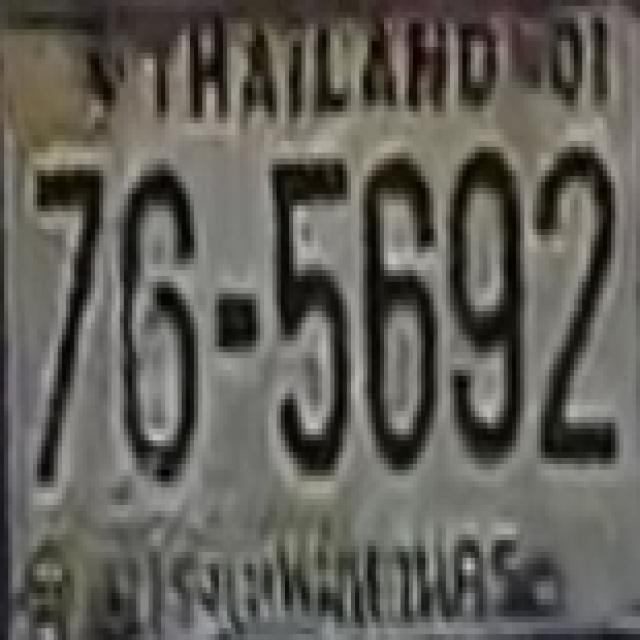2: (533, 141, 611, 423)
5: (270, 156, 349, 344)
6: (359, 153, 434, 464)
7: (33, 161, 103, 461), (33, 162, 103, 378), (33, 162, 103, 356)
9: (446, 147, 520, 458)
BKK: (104, 518, 525, 640)
